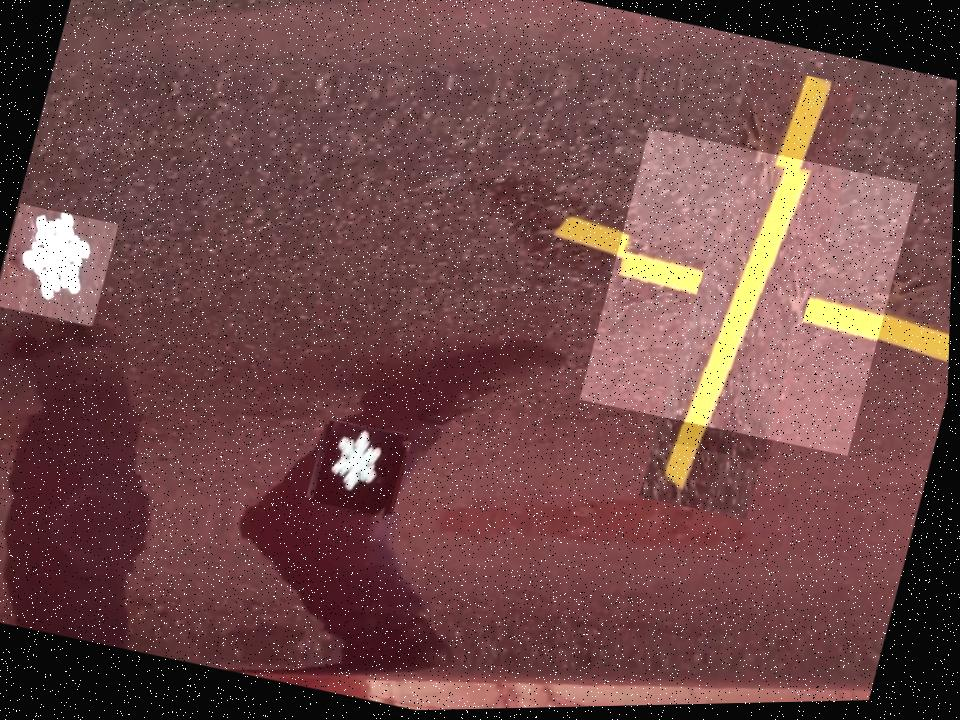dent: (670, 342, 795, 467), (0, 202, 120, 328), (311, 420, 411, 519)
scratch: (580, 125, 920, 463)
